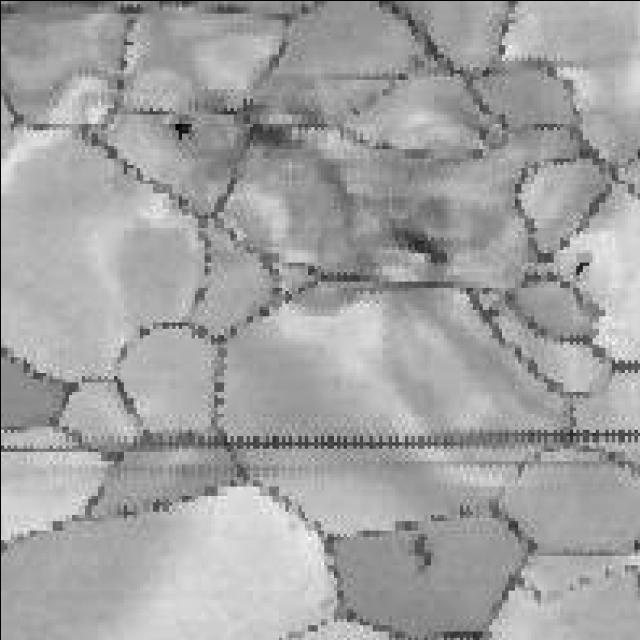good_void: (385, 226, 455, 267), (411, 530, 435, 570), (571, 257, 590, 278), (172, 120, 190, 142)
